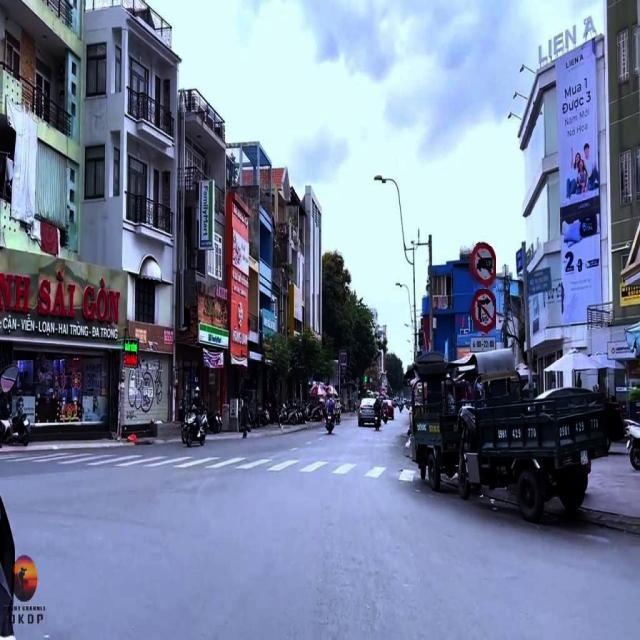106-cam-oto-tai: (469, 242, 496, 286)
123b-cam-re-phai: (470, 290, 498, 330)
